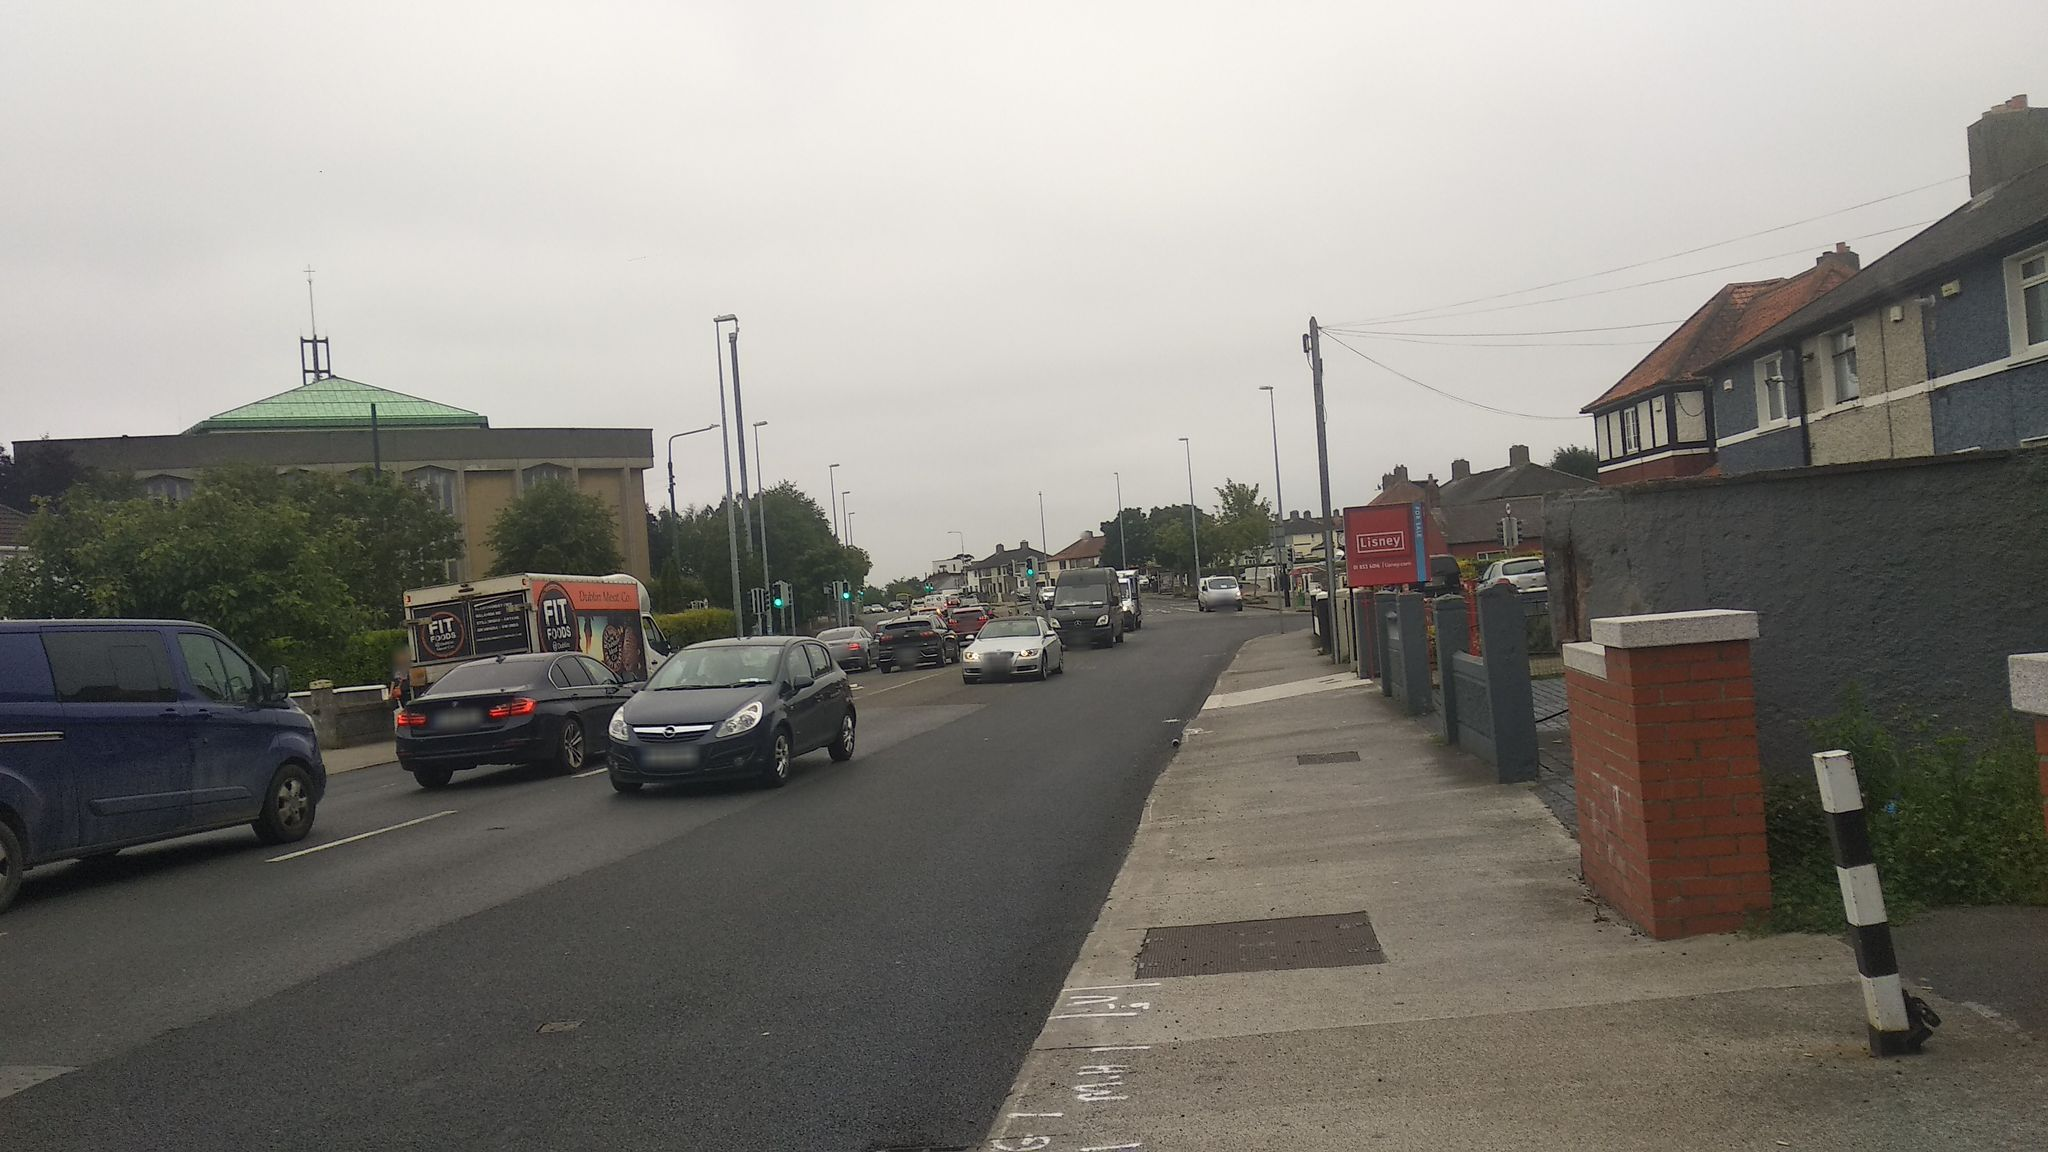property sign: (1332, 489, 1442, 595)
